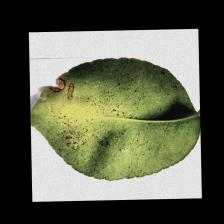canker: (46, 70, 130, 164)
